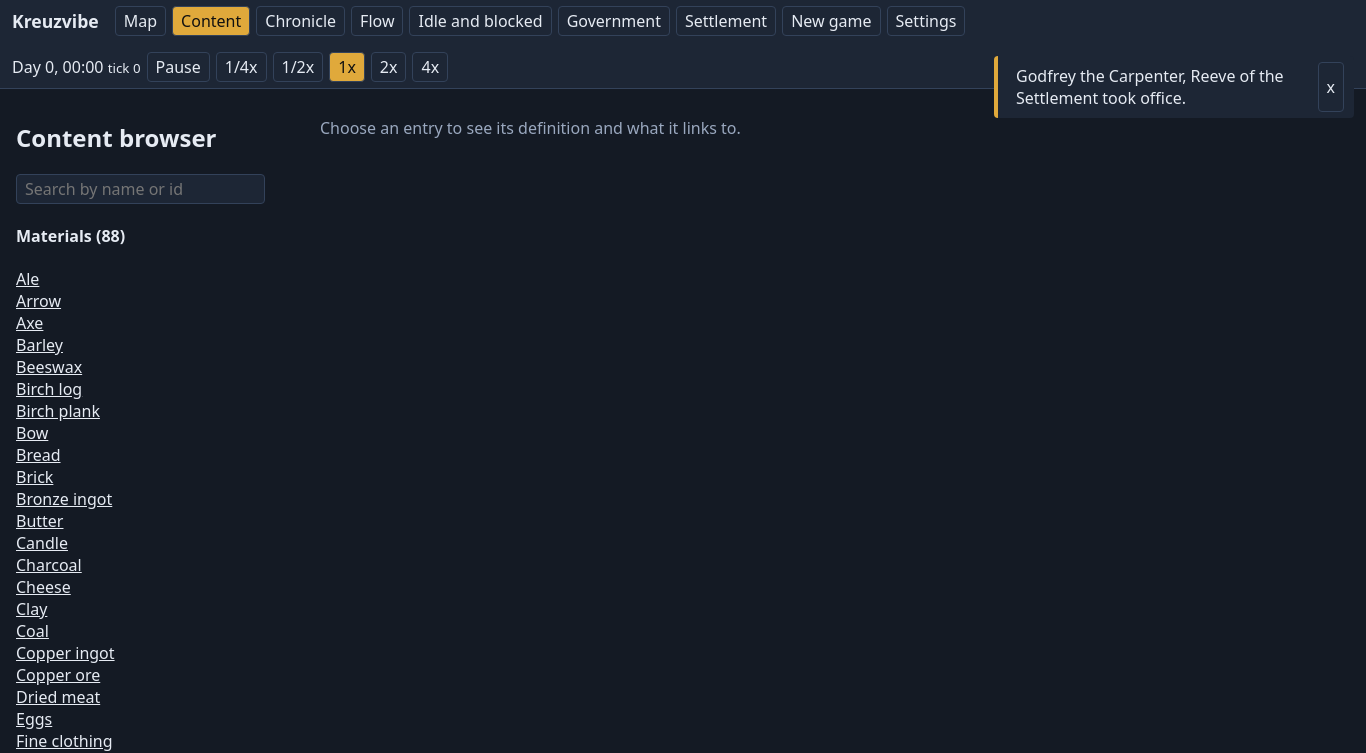
Test: ContentScreen › marks furniture that a later tier unlocks
Type "forge" into the search field named "Search content" at (140,189), box left=16, top=174, right=265, bottom=204
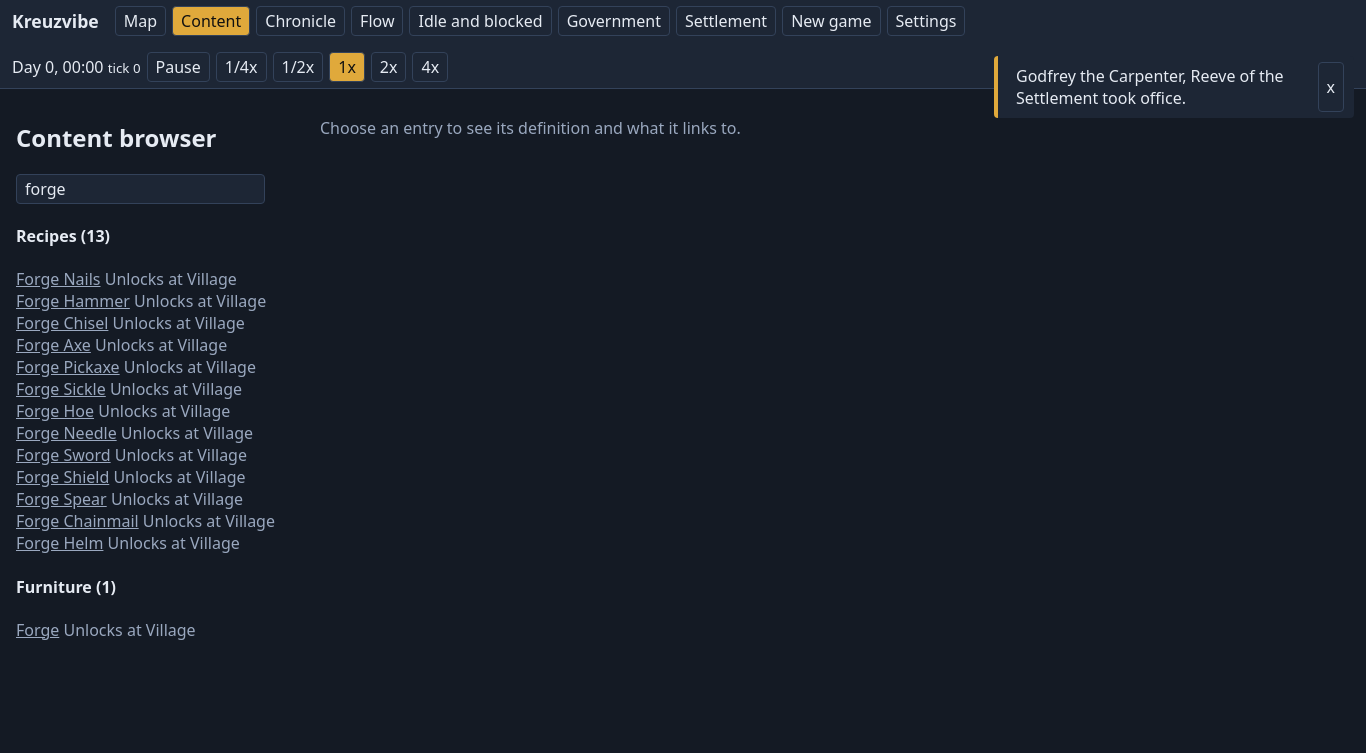
Expected: the 1st text "Unlocks at Village" is shown, left=100, top=268, right=237, bottom=290
Click the button "Forge" at (38,630), box left=16, top=619, right=59, bottom=641
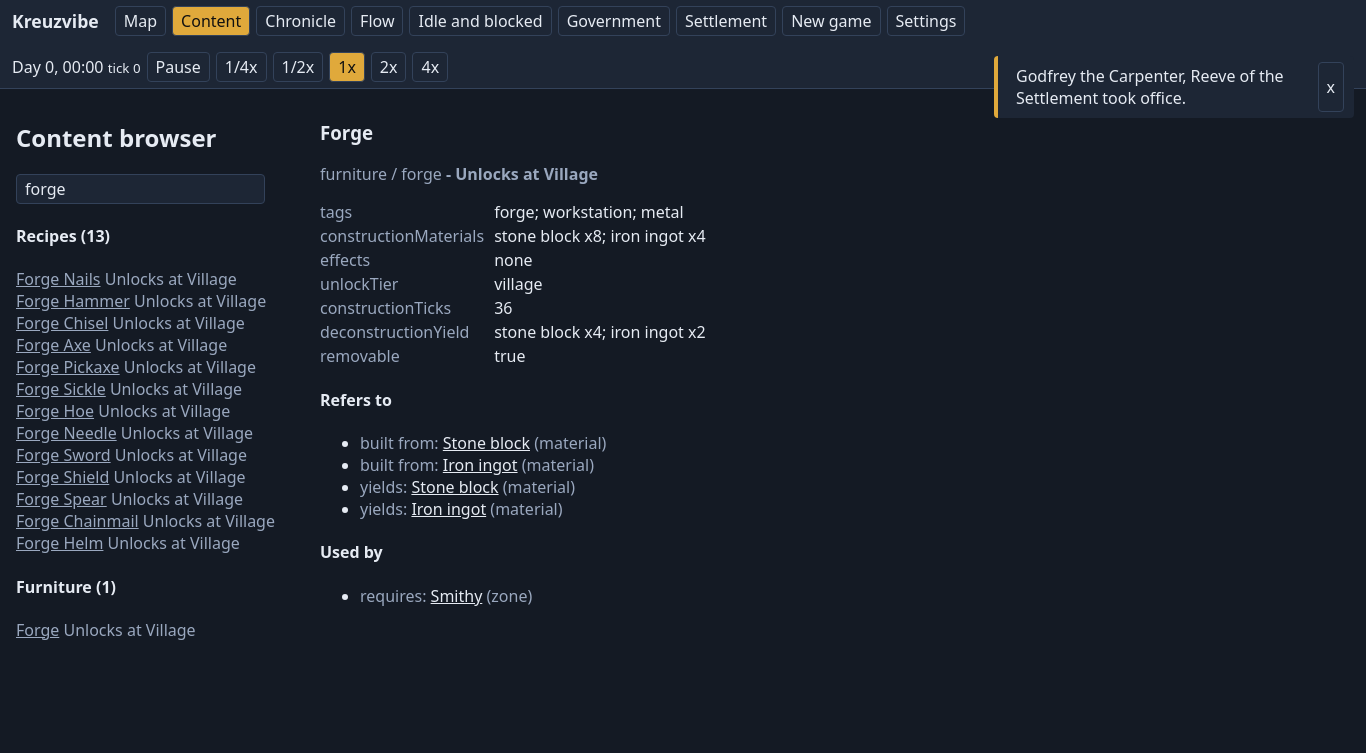
Expected: the text "- Unlocks at Village" is shown, left=442, top=163, right=598, bottom=185
